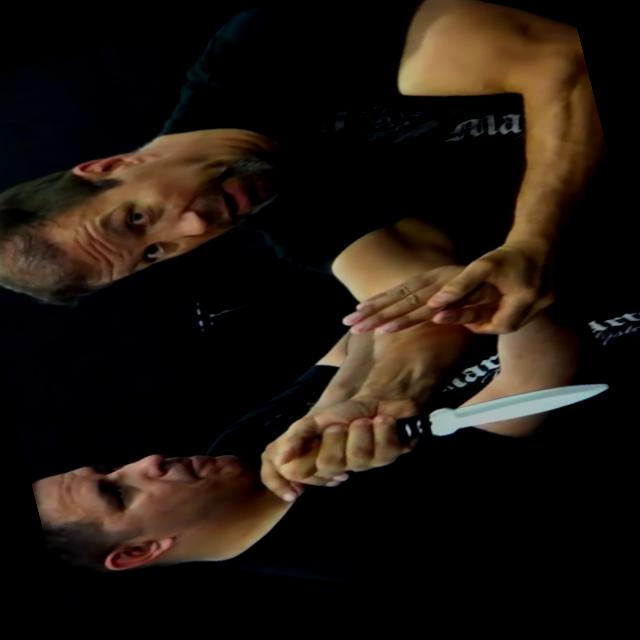knife: (260, 344, 624, 494)
